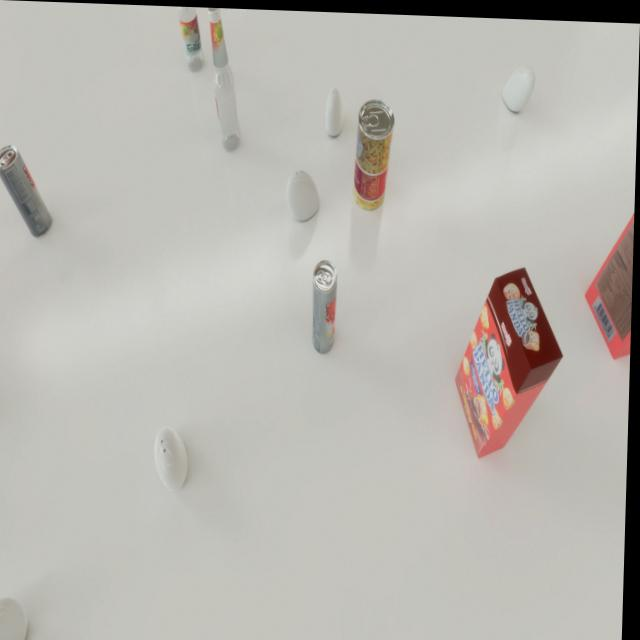Bottle: (205, 6, 245, 150)
HelloPanda: (456, 261, 567, 457)
Potato_sticks: (354, 96, 396, 209)
Rita_zero_sugar: (0, 144, 55, 238), (313, 257, 339, 352)
Salt: (156, 425, 192, 490), (287, 167, 322, 219), (503, 60, 536, 108), (326, 85, 344, 134)
